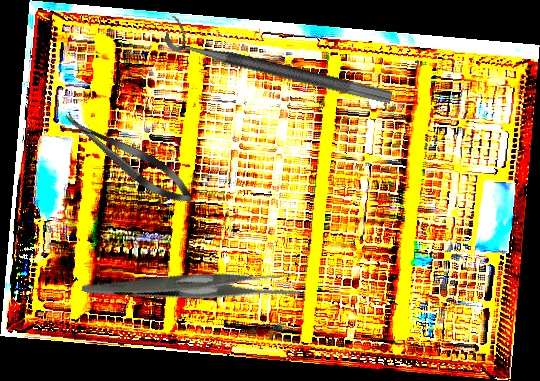Dressing Forceps: (81, 216, 305, 352)
Fixation Ring: (162, 14, 398, 106)
Micro Scissor: (57, 103, 200, 213)
